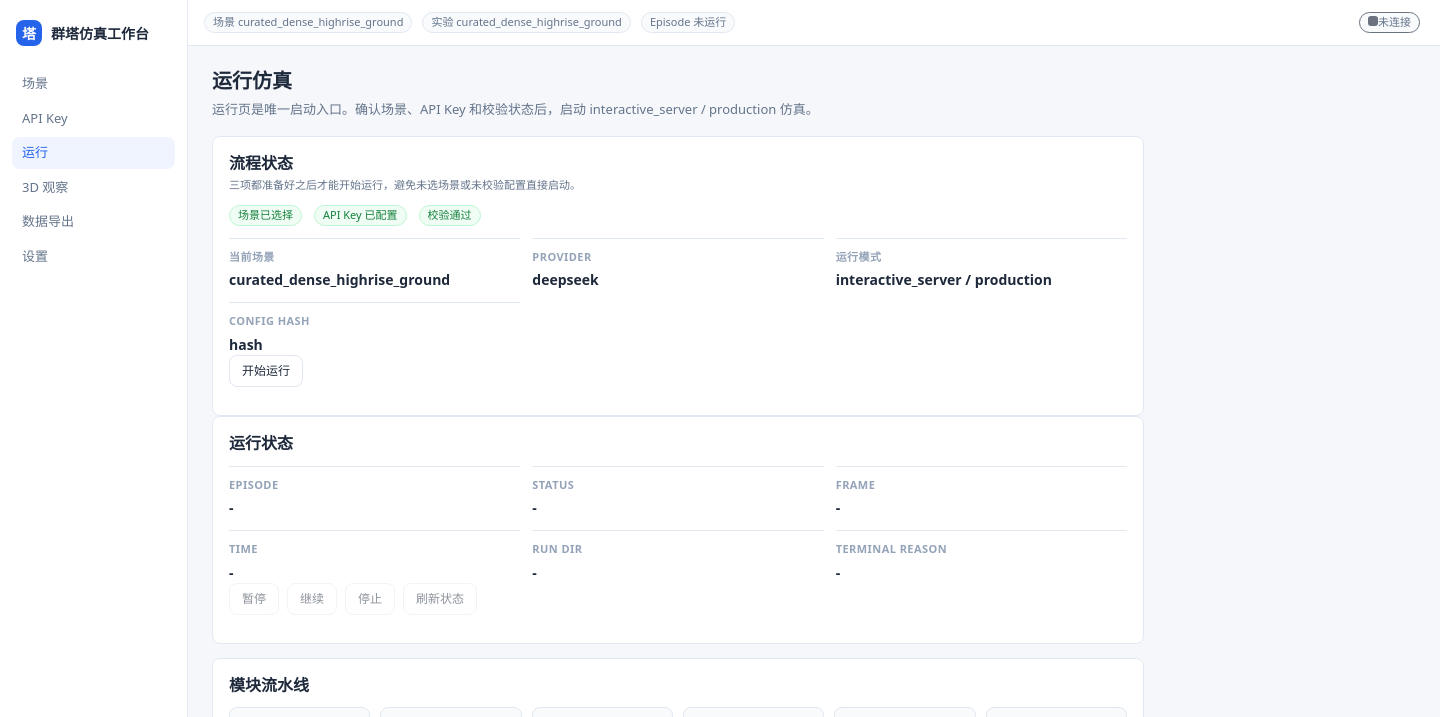
Test: workbench run controls › keeps legacy live runtime state when stop transport fails and state cannot confirm terminal
The width and height of the screenshot is (1440, 717).
Expected: the text "API Key 已配置" is shown, 314,205 -> 406,226
Click the button "开始运行": (266, 371) 229,355 -> 303,387
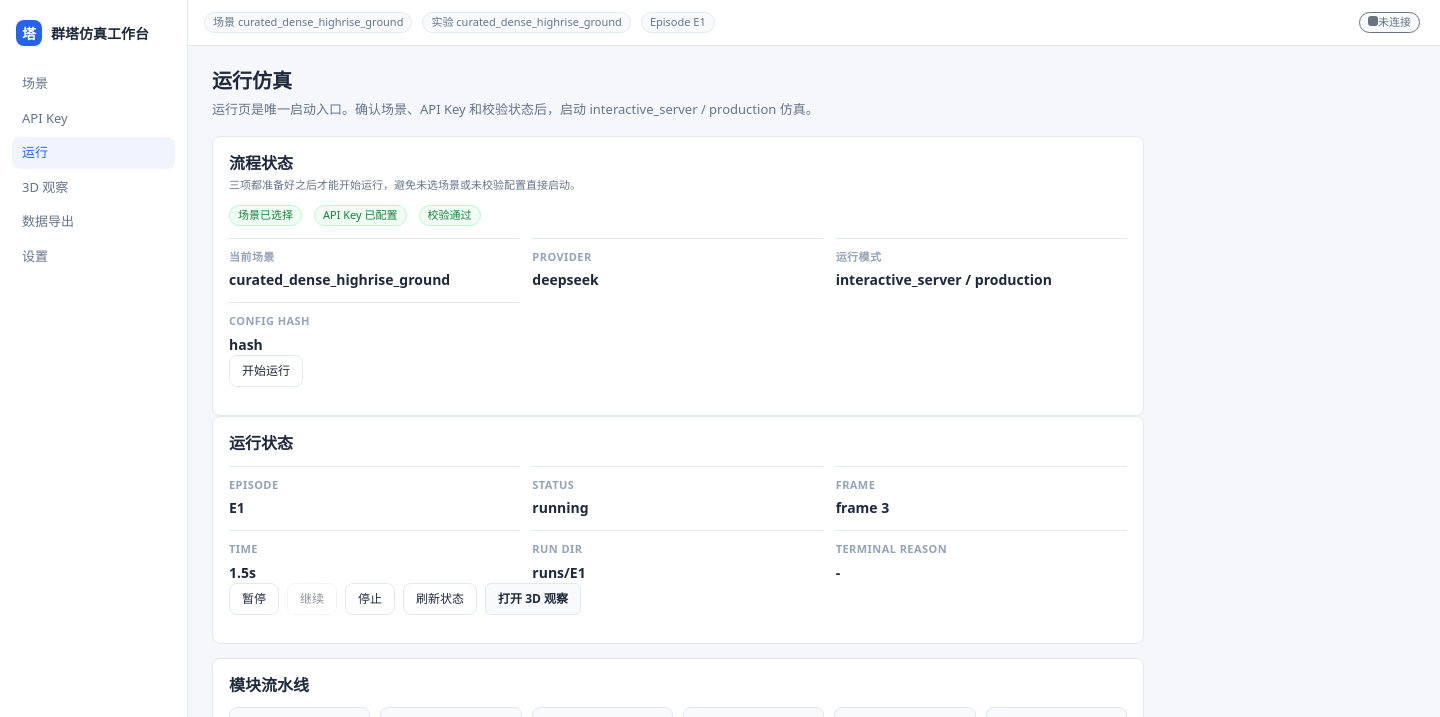
Result: the text "frame 3" is shown at 836,498 -> 889,517
Click the button "停止": (370, 598) 345,582 -> 395,614
(page scrolled)
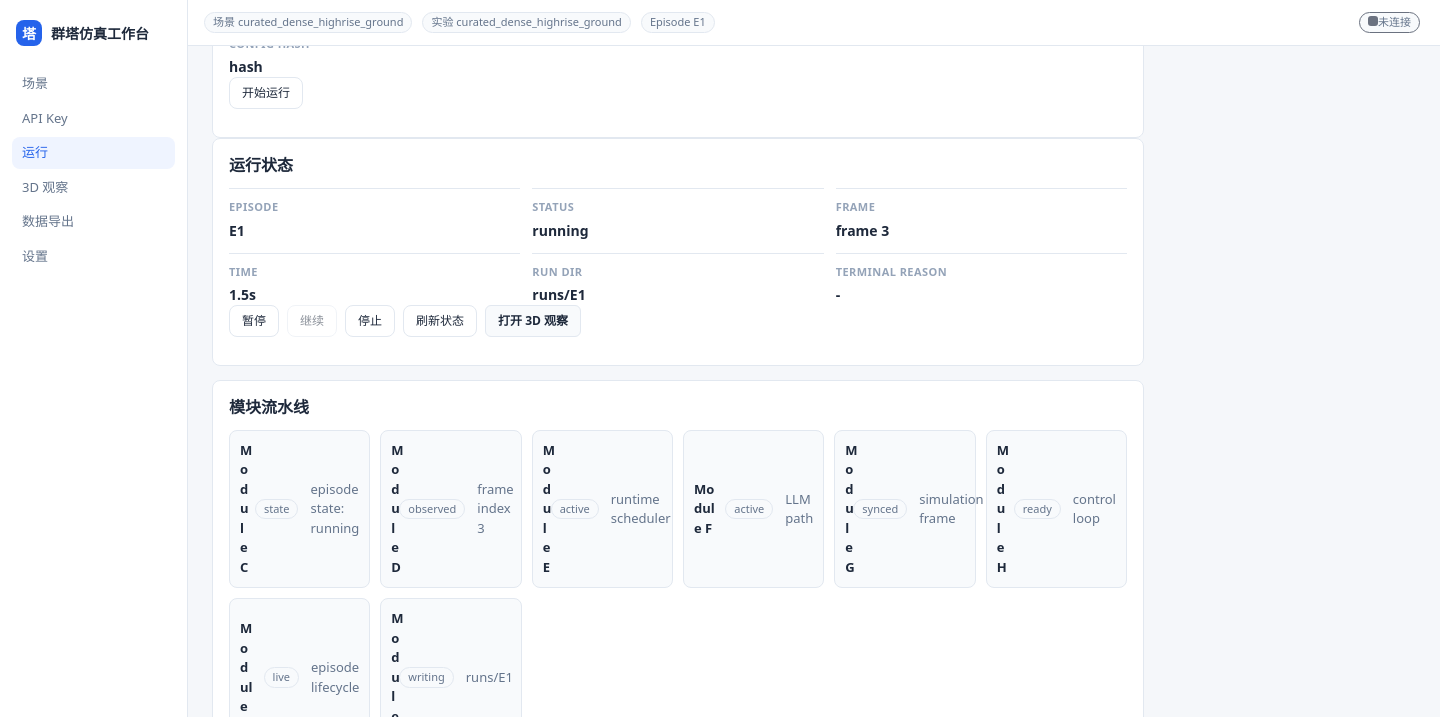
Result: the text "live" is shown at 264,667 -> 299,688
